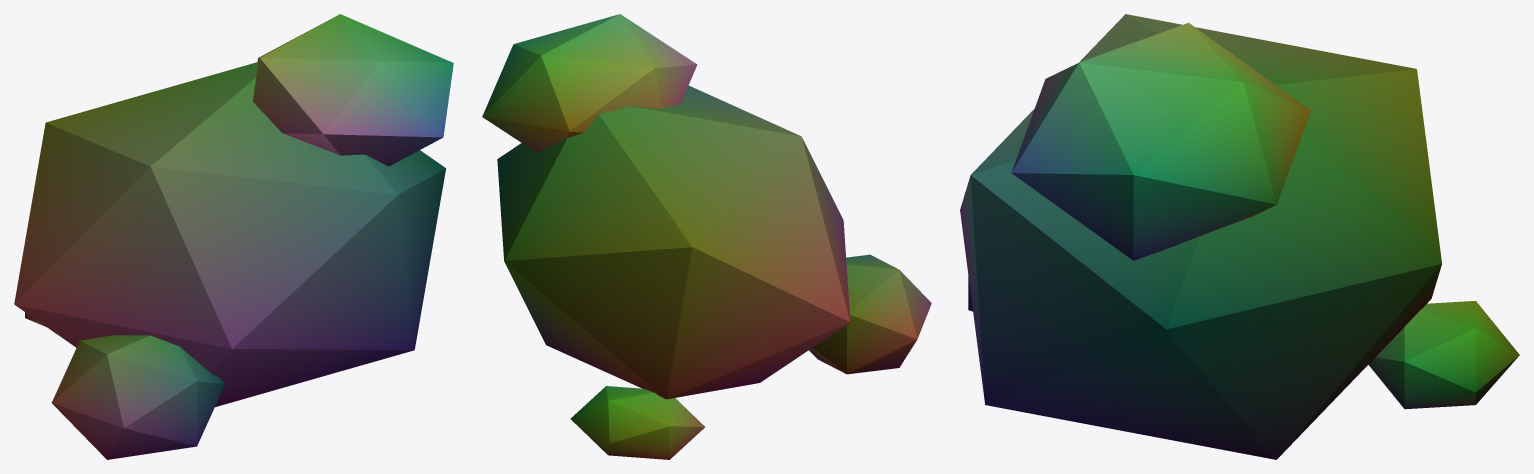
Rendered from Boulder.fbx.
3 views of the same model, side by side, from view 1: azimuth 30°, elevation 25°; view 2: azimuth 150°, elevation 25°; view 3: azimuth 270°, elevation 25° (orthographic). The views are drawn at different scales.
Visible parts, largest first — view 1: Boulder; view 2: Boulder; view 3: Boulder.
Boxes of the visible parts, x1,y1,x2,y2 form: Boulder: (14, 14, 453, 459); Boulder: (482, 14, 931, 459); Boulder: (960, 14, 1519, 459).
Bounding box in the file's own units: 1.6 × 1.21 × 1.4.
